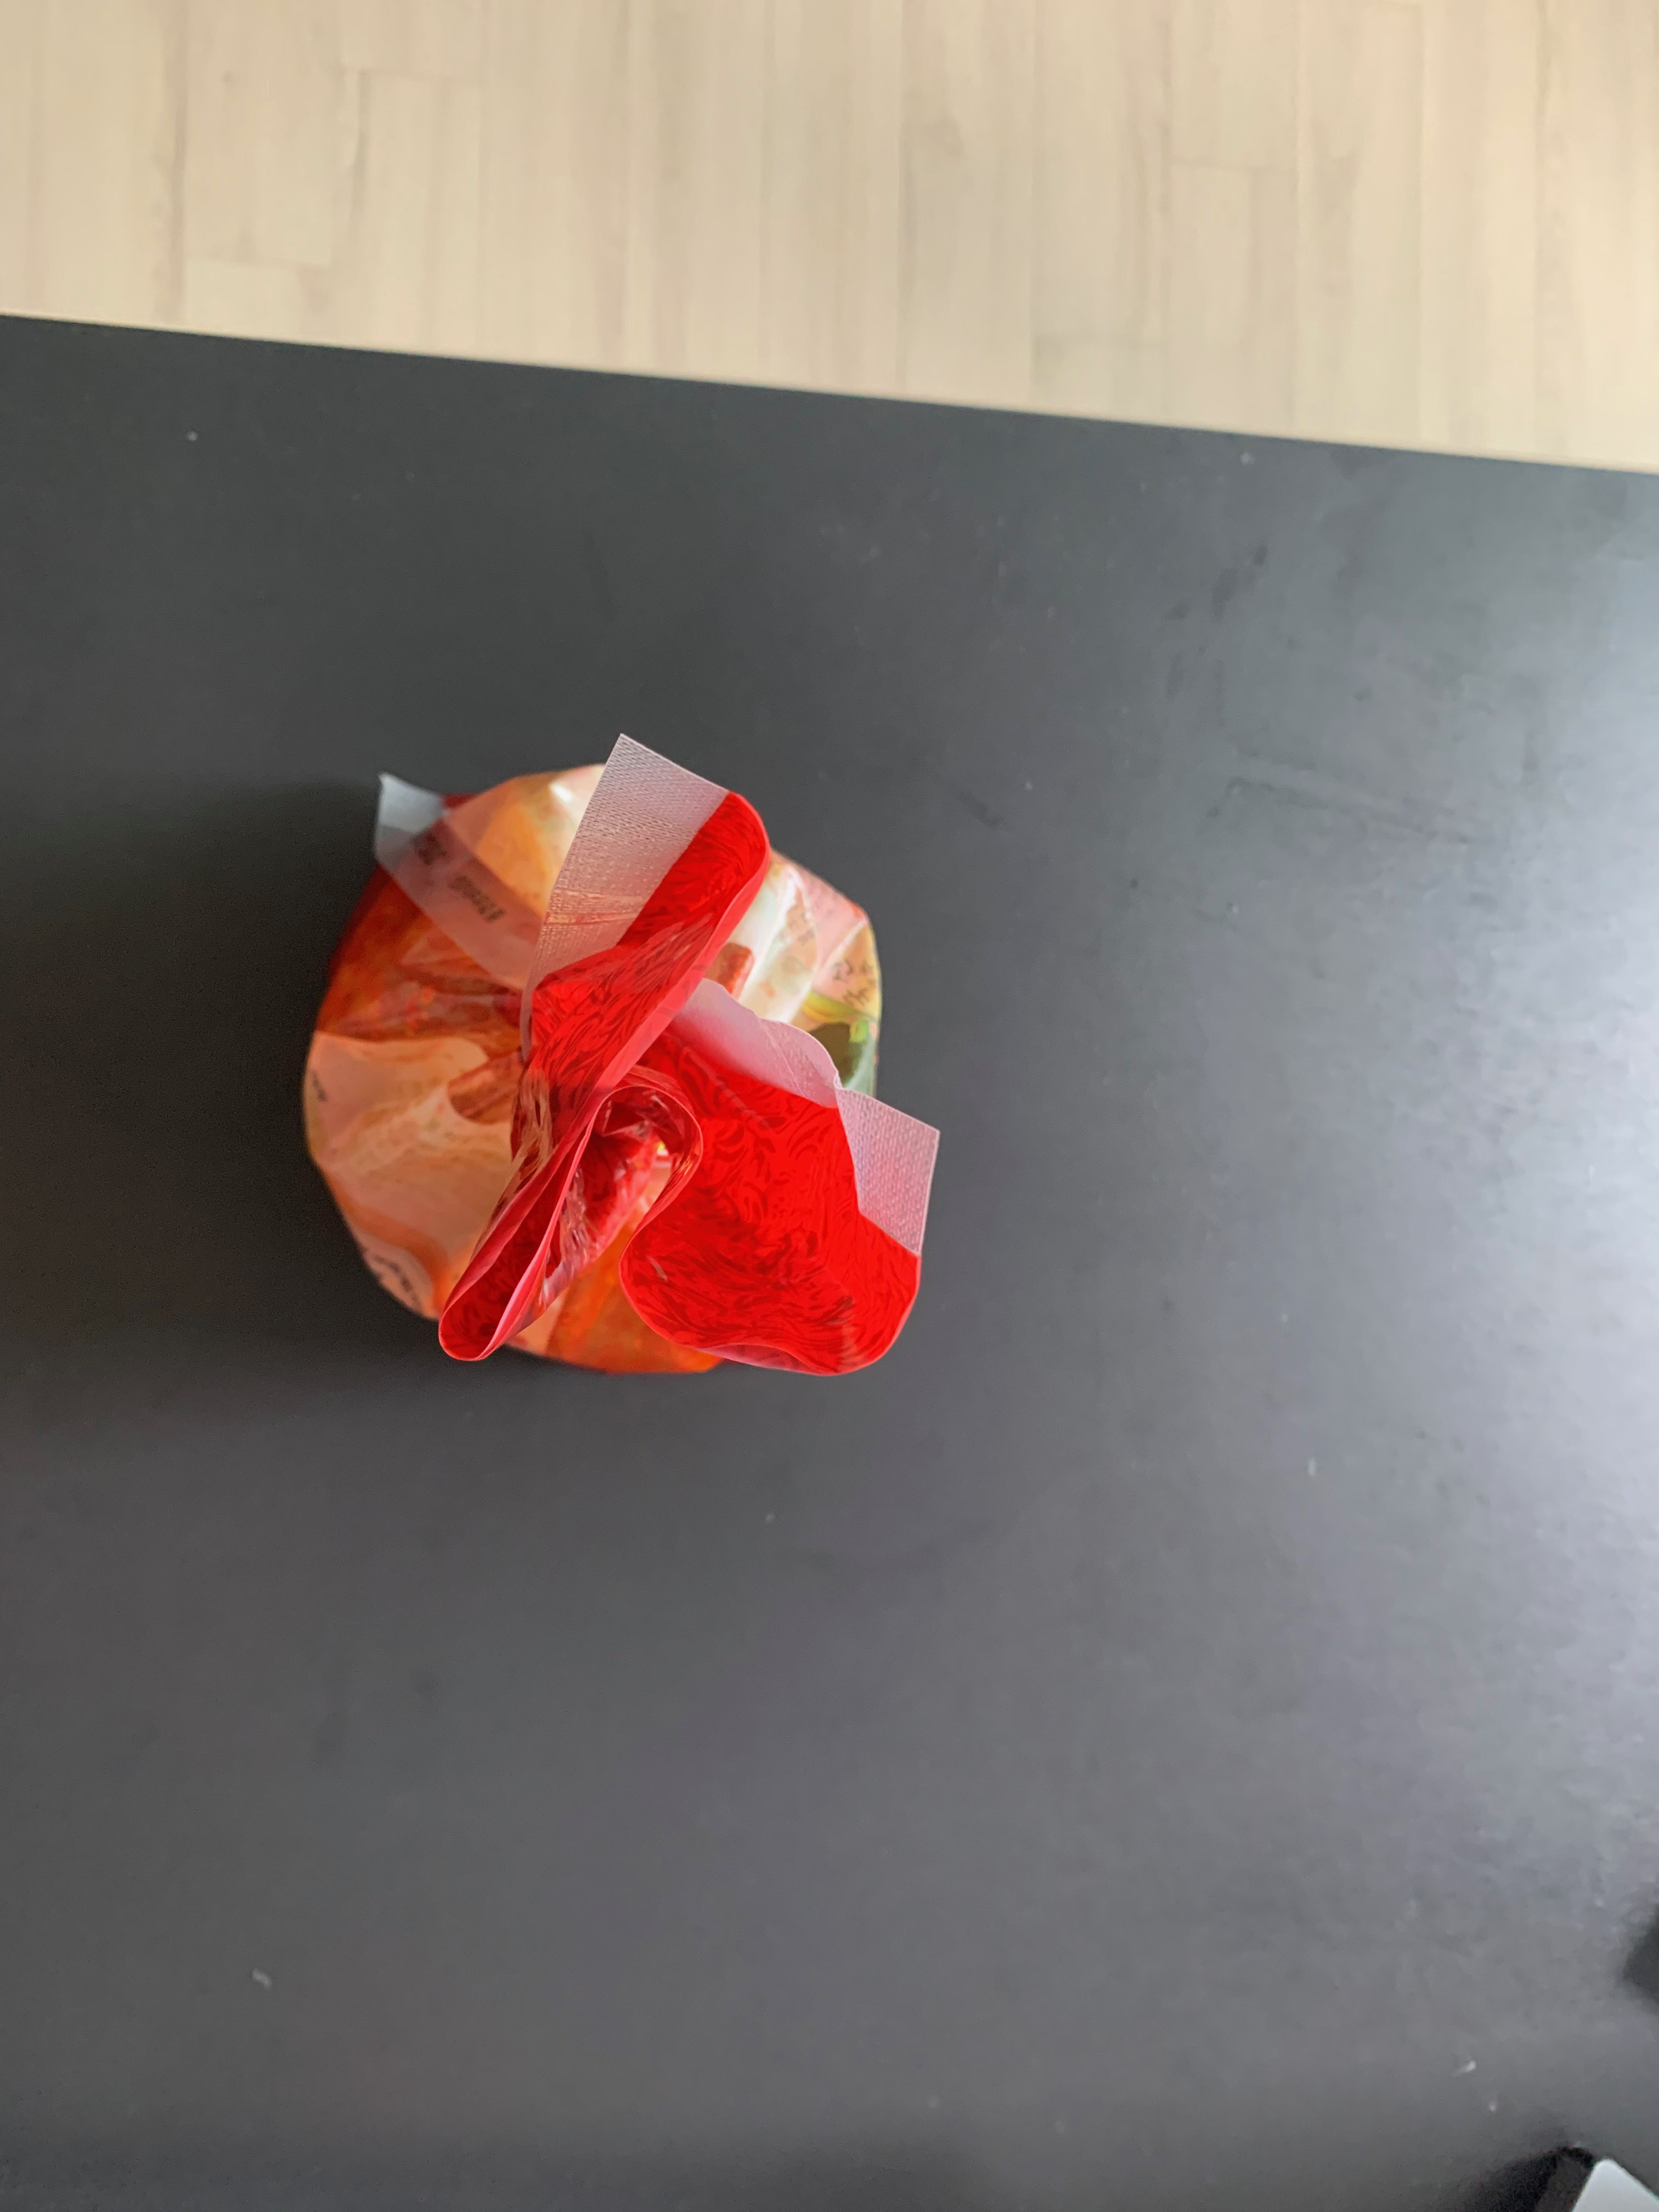kimchi: (308, 761, 924, 1378)
